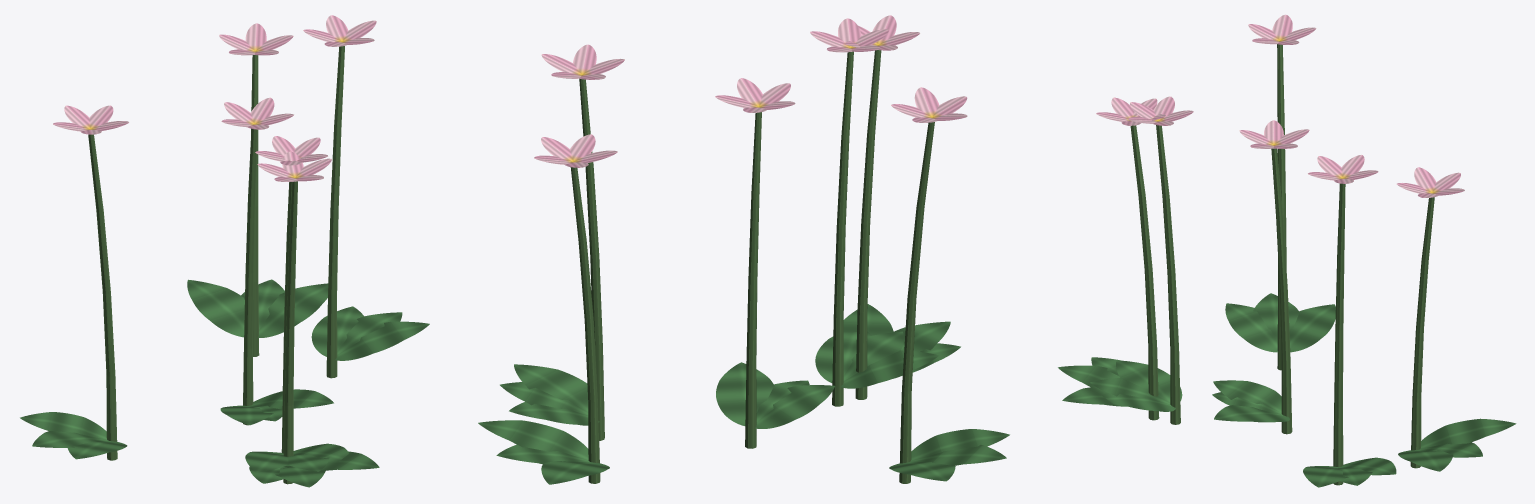
File: forest_anemone_v02.fbx
3 renders of one model, left to right at view 1: azimuth 30°, elevation 25°; view 2: azimuth 150°, elevation 25°; view 3: azimuth 270°, elevation 25°, orthographic. The views are drawn at different scales.
Parts seen in each view (by area): view 1: forest_anemone_v02; view 2: forest_anemone_v02; view 3: forest_anemone_v02.
Part boxes in pixels (x1,y1,x2,y2): forest_anemone_v02: (20, 15, 429, 487); forest_anemone_v02: (478, 15, 1009, 484); forest_anemone_v02: (1058, 14, 1516, 487).
Bounding box in the file's own units: 25.72 × 25.8 × 19.74.
3 materials, 3 textured.
